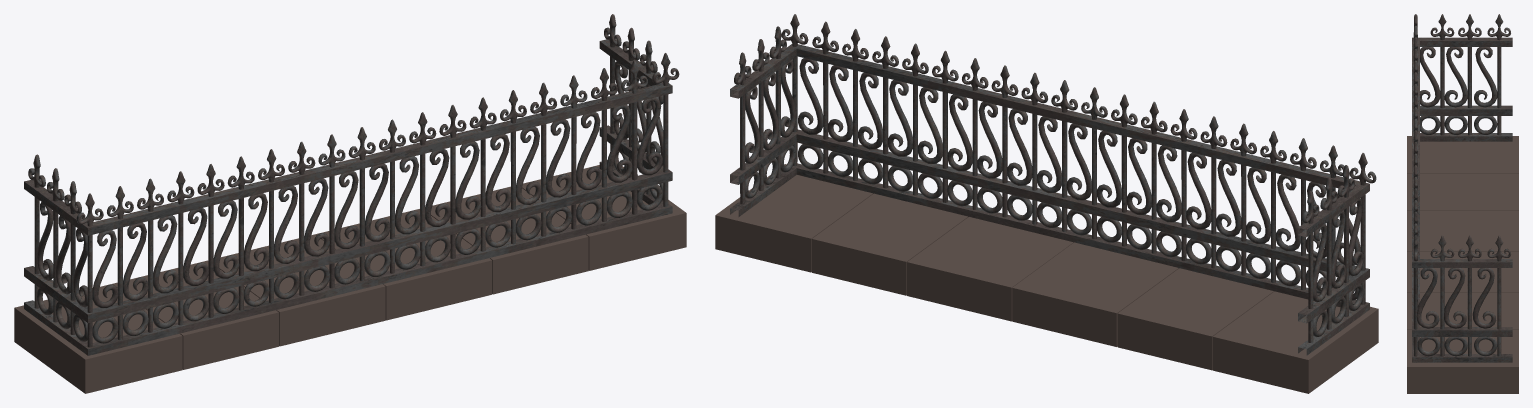
The model's file is SK4 DECOR.fbx.
3 renders of one model, left to right at view 1: azimuth 30°, elevation 25°; view 2: azimuth 150°, elevation 25°; view 3: azimuth 270°, elevation 25°, orthographic. The views are drawn at different scales.
Parts seen in each view (by area): view 1: SK4 DECOR.002; view 2: SK4 DECOR.002; view 3: SK4 DECOR.002.
Boxes of the visible parts, x1,y1,x2,y2 form: SK4 DECOR.002: (14,14,686,393); SK4 DECOR.002: (715,14,1378,393); SK4 DECOR.002: (1407,14,1518,393).
Bounding box in the file's own units: 368 × 113 × 74.88.
